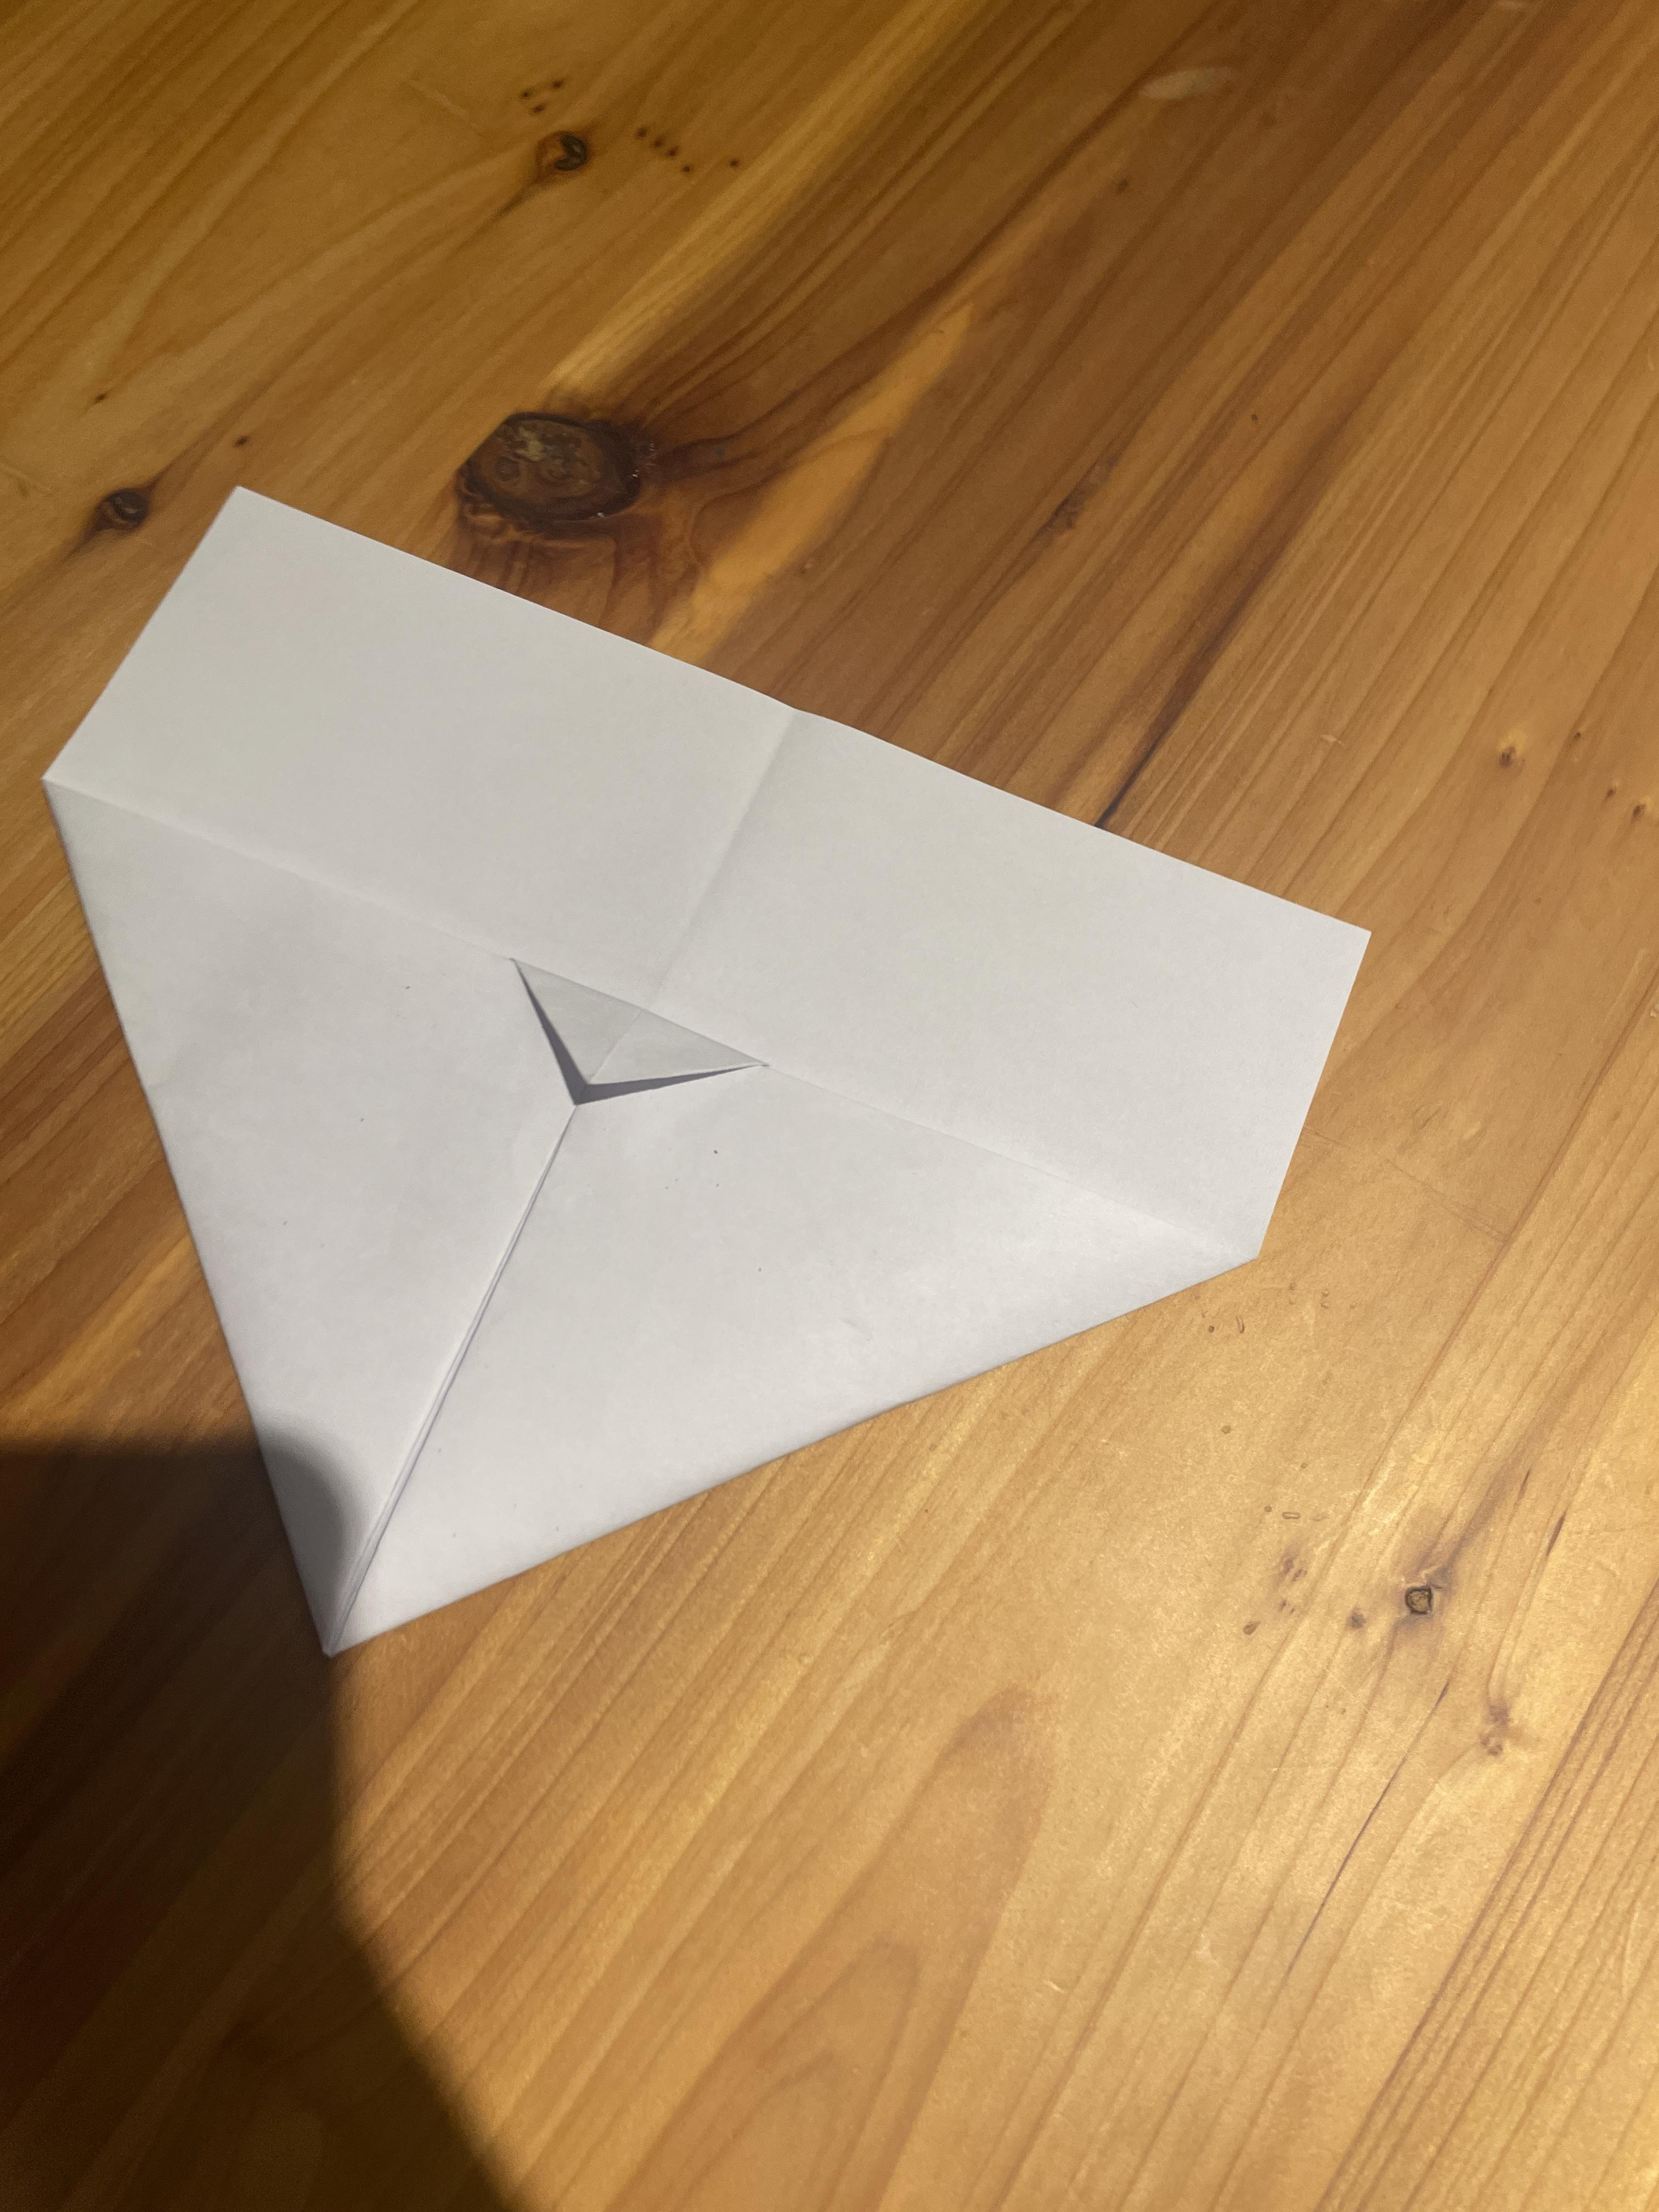shape_2: (33, 380, 1429, 1723)
